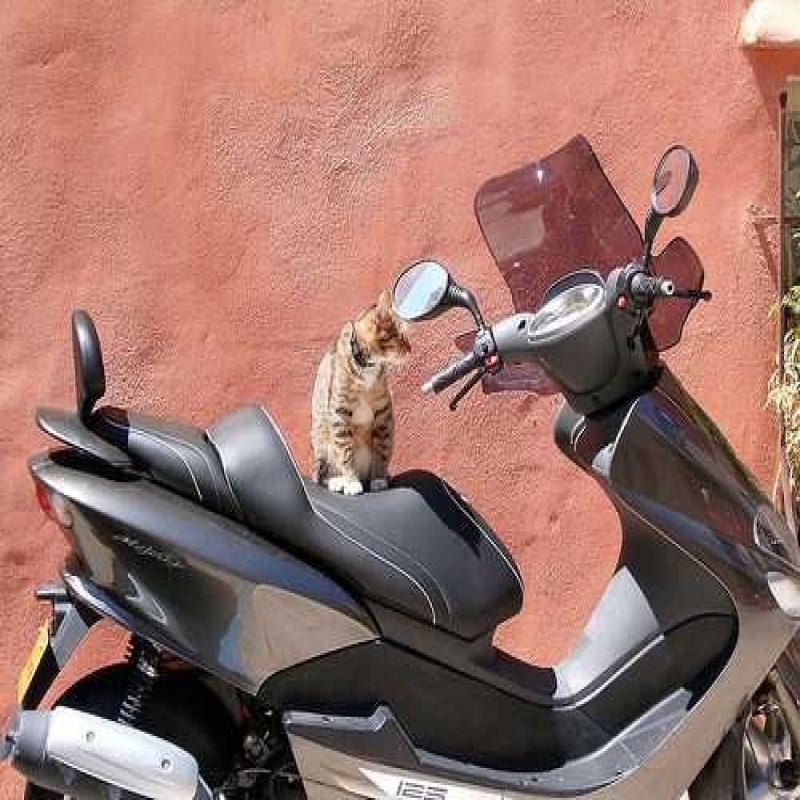bike: (0, 199, 800, 800)
